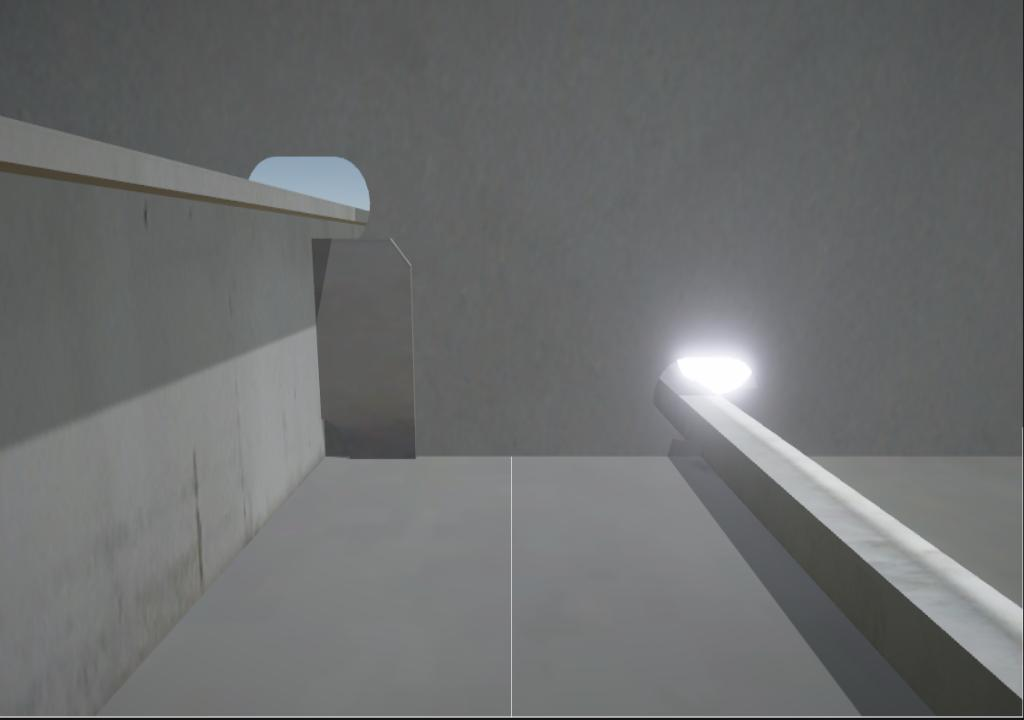fillet_yong_jeop_jang: (317, 450, 701, 467)
longi_yong_jeop_jang: (695, 437, 706, 461)
plate_CP04: (310, 237, 416, 460)
